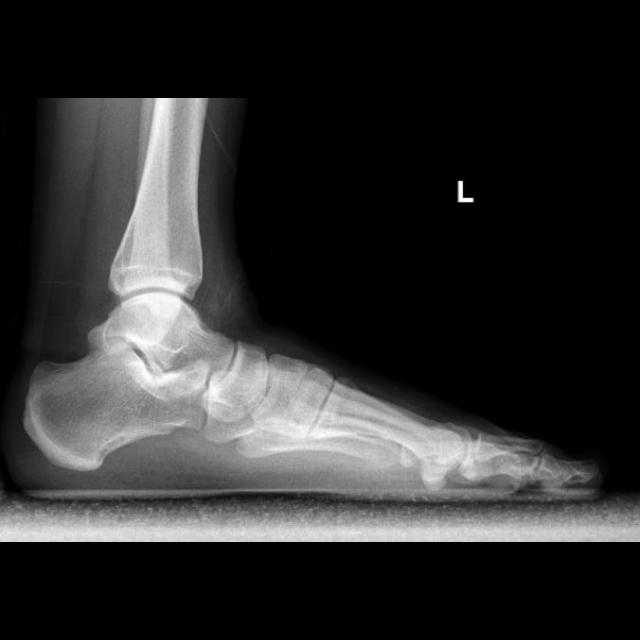a: (23, 341, 207, 469)
b: (202, 337, 269, 425)
c: (308, 383, 471, 471)
